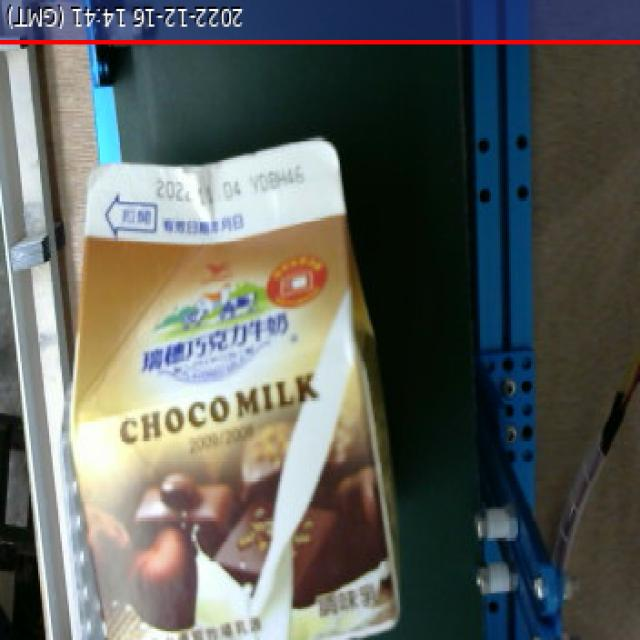non_white_jug: (59, 122, 425, 636)
